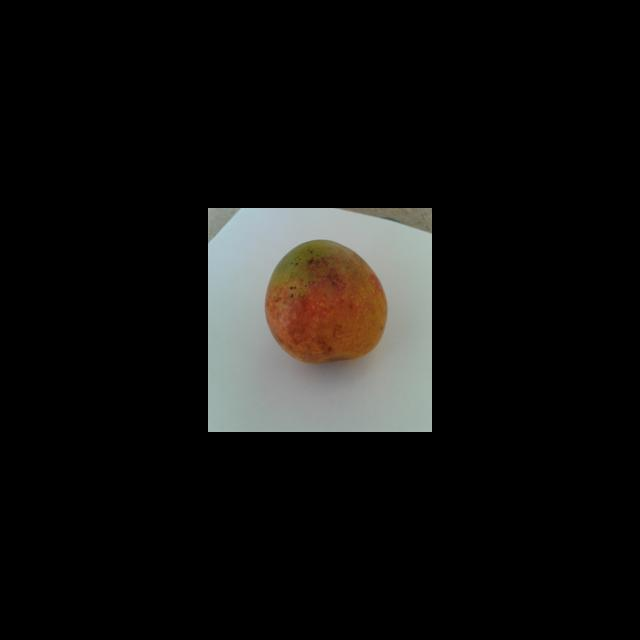Mango: (264, 238, 387, 363)
